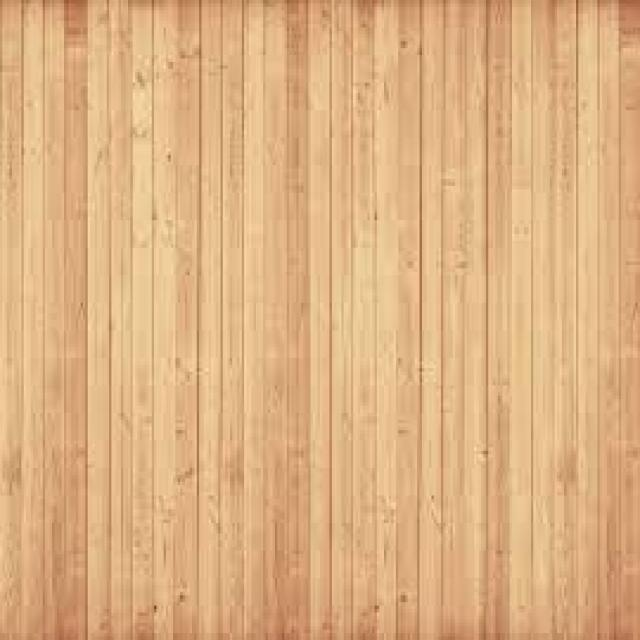perfect-wooden-plate: (0, 4, 639, 637)
